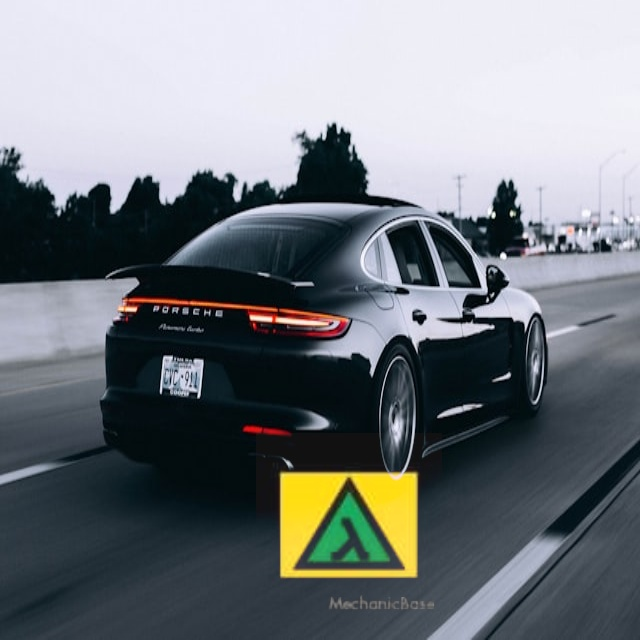symbol: (256, 433, 442, 619)
